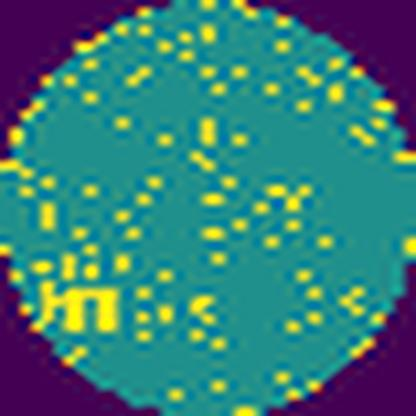Loc: (39, 282, 113, 331)
